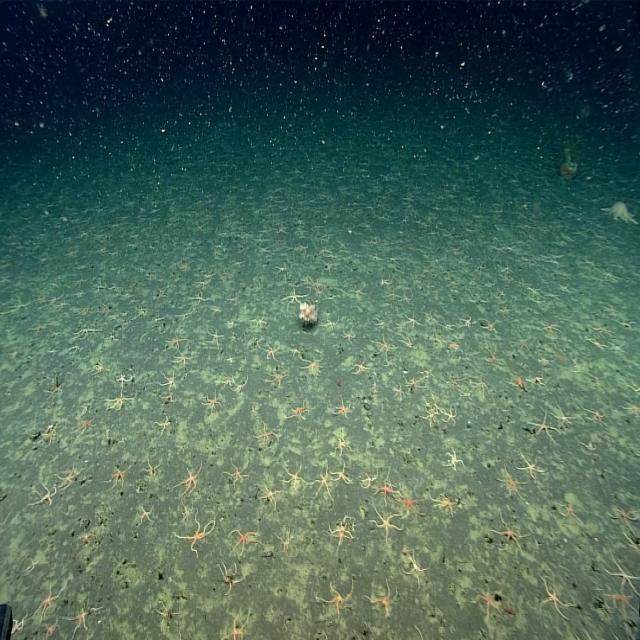brittle-stars: (176, 512, 218, 557), (537, 571, 570, 625), (491, 513, 529, 556), (317, 576, 355, 615), (362, 578, 397, 618), (602, 556, 640, 590), (36, 577, 65, 618), (370, 504, 404, 537), (472, 586, 504, 621), (68, 598, 95, 639), (527, 410, 558, 445), (229, 525, 260, 559), (176, 462, 205, 498), (610, 501, 640, 535), (496, 464, 524, 500), (606, 589, 637, 621), (224, 606, 253, 640), (401, 549, 428, 583), (215, 559, 242, 591), (55, 460, 83, 490), (516, 451, 543, 481), (309, 468, 333, 499), (432, 490, 458, 518), (106, 462, 130, 492), (282, 461, 306, 491), (372, 475, 394, 507), (223, 458, 248, 486), (557, 496, 582, 524), (328, 516, 352, 545), (32, 483, 57, 510), (399, 489, 422, 518), (253, 420, 276, 448), (108, 390, 135, 413), (287, 398, 311, 423), (300, 353, 324, 378), (258, 479, 281, 504), (332, 461, 352, 489), (10, 608, 30, 635), (274, 528, 294, 555), (39, 422, 60, 446), (282, 284, 303, 308), (554, 404, 573, 430), (156, 367, 178, 388), (202, 391, 222, 414), (136, 502, 155, 526), (332, 394, 351, 418), (332, 432, 351, 456), (144, 454, 162, 479), (262, 339, 280, 364), (585, 404, 605, 426), (358, 468, 378, 490), (74, 324, 100, 340), (207, 323, 223, 349), (444, 447, 464, 467), (340, 323, 360, 343), (375, 336, 395, 356), (402, 310, 422, 330), (443, 372, 464, 391), (441, 402, 456, 428), (166, 332, 186, 351), (155, 414, 172, 436), (77, 414, 96, 433), (42, 620, 62, 638), (422, 404, 438, 426), (188, 290, 208, 307), (174, 353, 193, 370), (114, 369, 130, 389), (178, 502, 193, 522), (392, 381, 405, 404), (458, 312, 474, 330), (353, 357, 368, 376), (384, 288, 399, 304)
